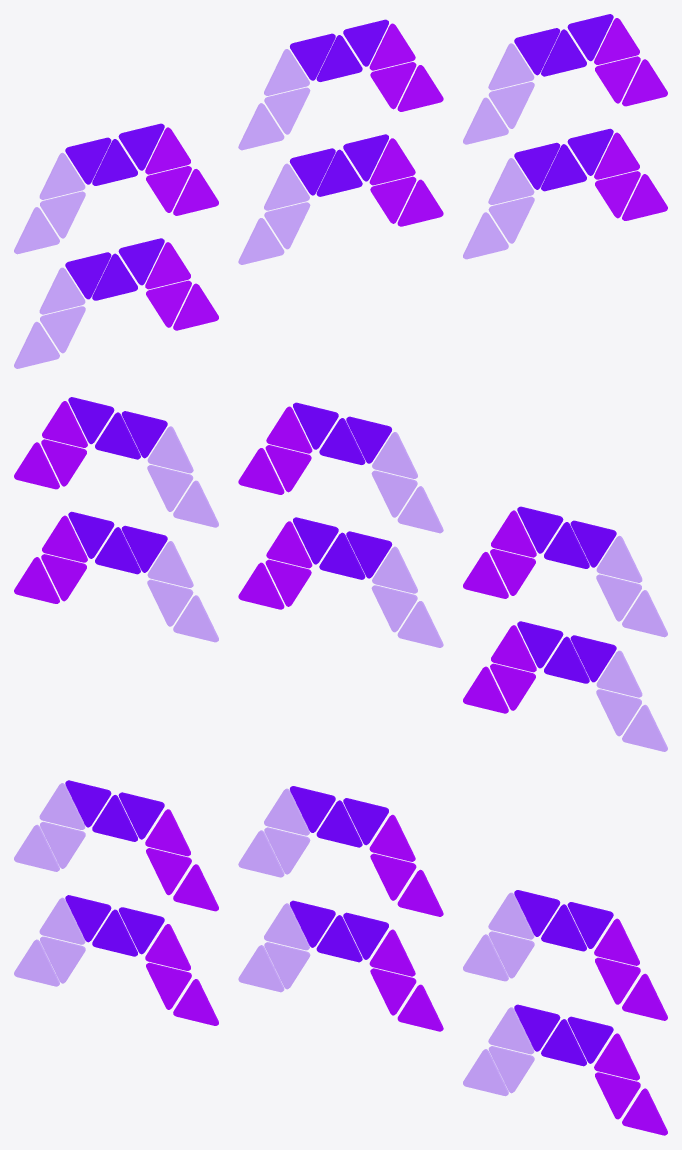
The model's file is led_wand.glb.
3 renders of one model, top to bottom at view 1: azimuth 30°, elevation 25°; view 2: azimuth 150°, elevation 25°; view 3: azimuth 330°, elevation 25°, orthographic.
Parts seen in each view (by area): view 1: LedWand; view 2: LedWand; view 3: LedWand.
Part boxes in pixels (x1=…): LedWand: x1=14, y1=14, x2=667, y2=368; LedWand: x1=14, y1=397, x2=667, y2=751; LedWand: x1=14, y1=780, x2=667, y2=1135.
Size of the model in its own units: 2.5 by 0.9488 by 0.00792.
